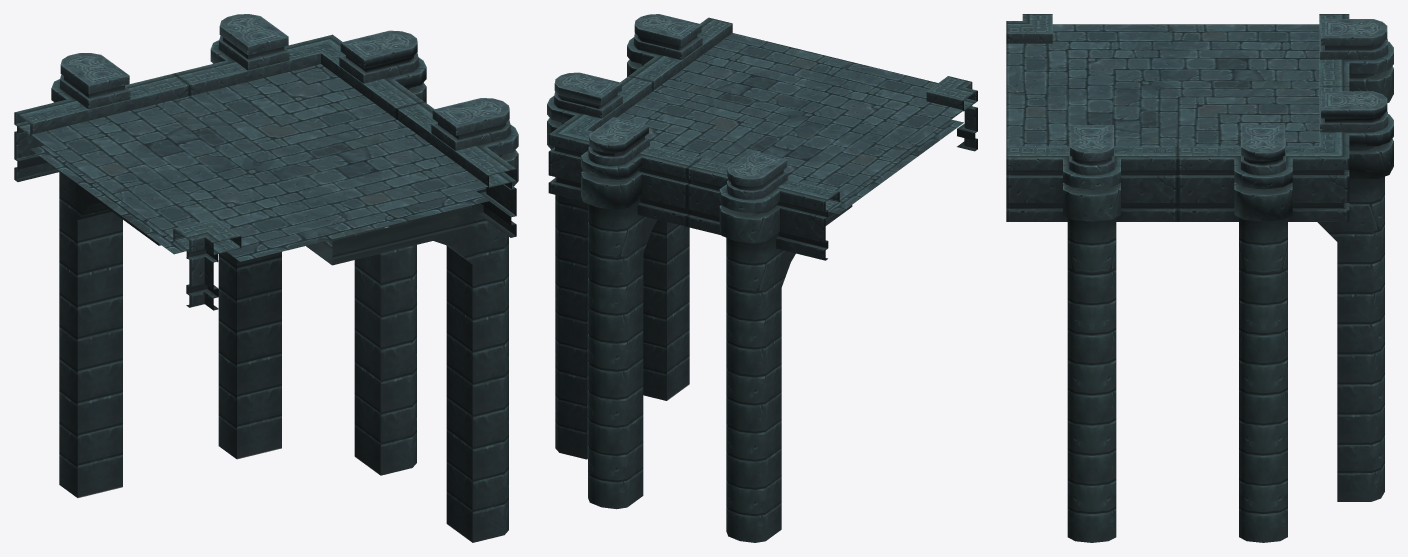
Rendered from Stage_DiXiaCheng_Qiao04.FBX.
The picture shows the model from 3 angles, left to right: view 1: azimuth 30°, elevation 25°; view 2: azimuth 150°, elevation 25°; view 3: azimuth 270°, elevation 25°; orthographic projection. The views are drawn at different scales.
Parts seen in each view (by area): view 1: Stage_DiXiaCheng_Qiao04; view 2: Stage_DiXiaCheng_Qiao04; view 3: Stage_DiXiaCheng_Qiao04.
Part boxes in pixels (x1=…): Stage_DiXiaCheng_Qiao04: x1=14, y1=14, x2=518, y2=542; Stage_DiXiaCheng_Qiao04: x1=547, y1=14, x2=977, y2=542; Stage_DiXiaCheng_Qiao04: x1=1006, y1=14, x2=1393, y2=542.
Size of the model in its own units: 1342 by 1492 by 1342.
